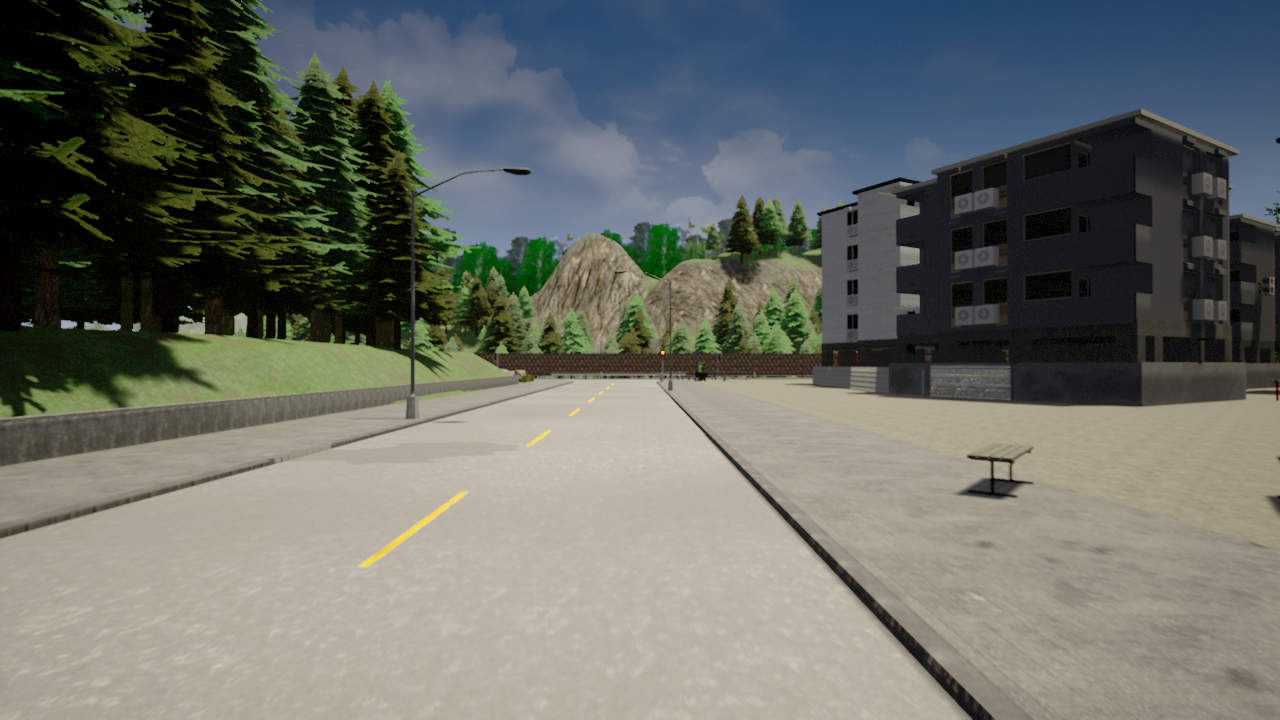red: (660, 350, 665, 361)
